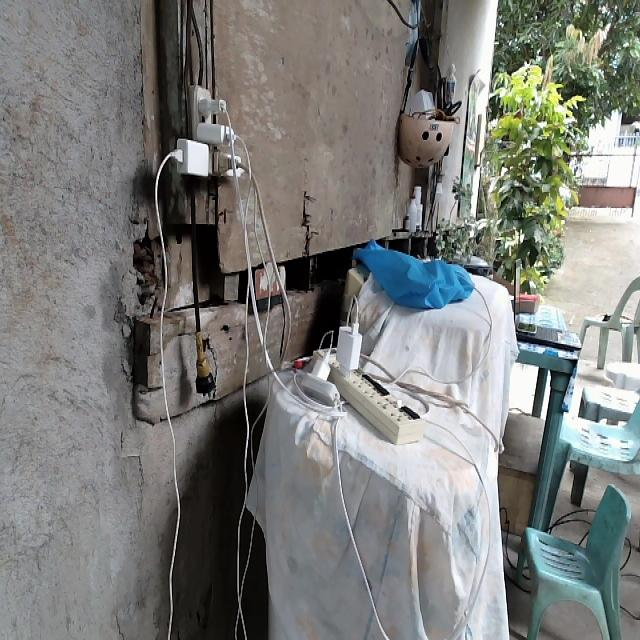-: (161, 80, 248, 184)
